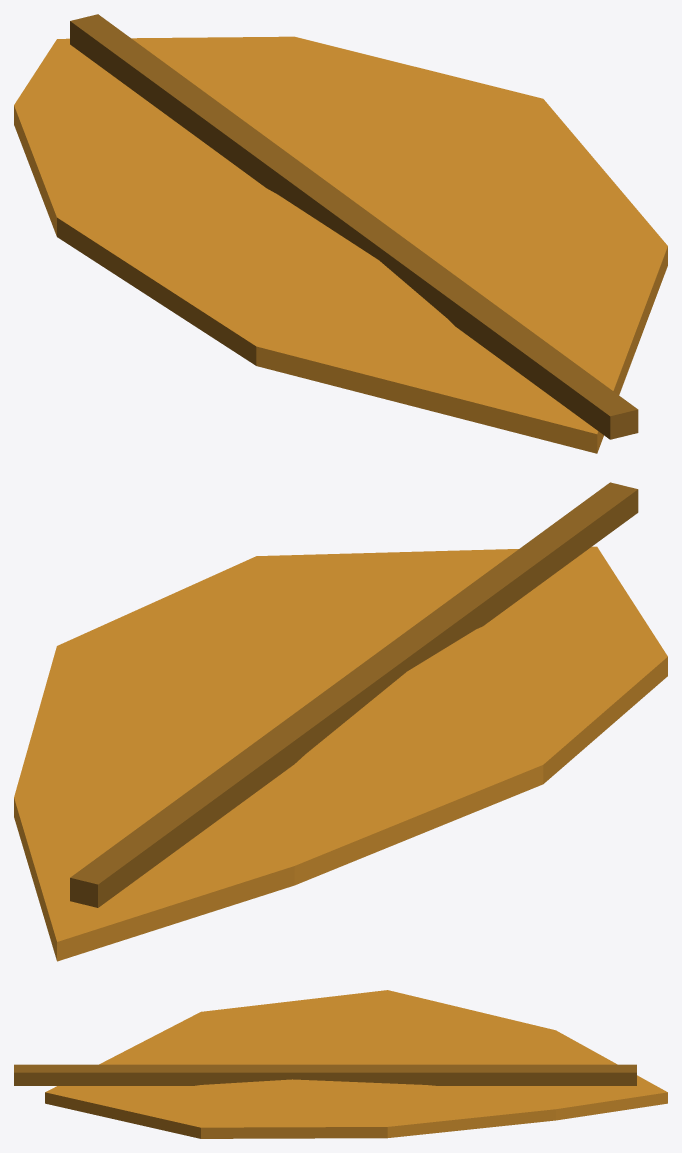
File: Hava_yaprak_2.fbx
3 renders of one model, top to bottom at view 1: azimuth 30°, elevation 25°; view 2: azimuth 150°, elevation 25°; view 3: azimuth 270°, elevation 25°, orthographic. The views are drawn at different scales.
Visible parts, largest first — view 1: Hava_yaprak_2; view 2: Hava_yaprak_2; view 3: Hava_yaprak_2.
Part boxes in pixels (x1,y1,x2,y2): Hava_yaprak_2: (14, 14, 667, 453); Hava_yaprak_2: (14, 482, 667, 961); Hava_yaprak_2: (14, 990, 667, 1138).
Size of the model in its own units: 0.52 by 0.08 by 1.05.
